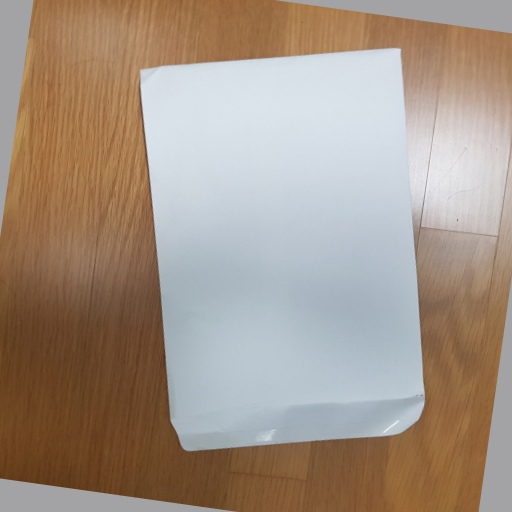Paper_2: (138, 45, 434, 442)
